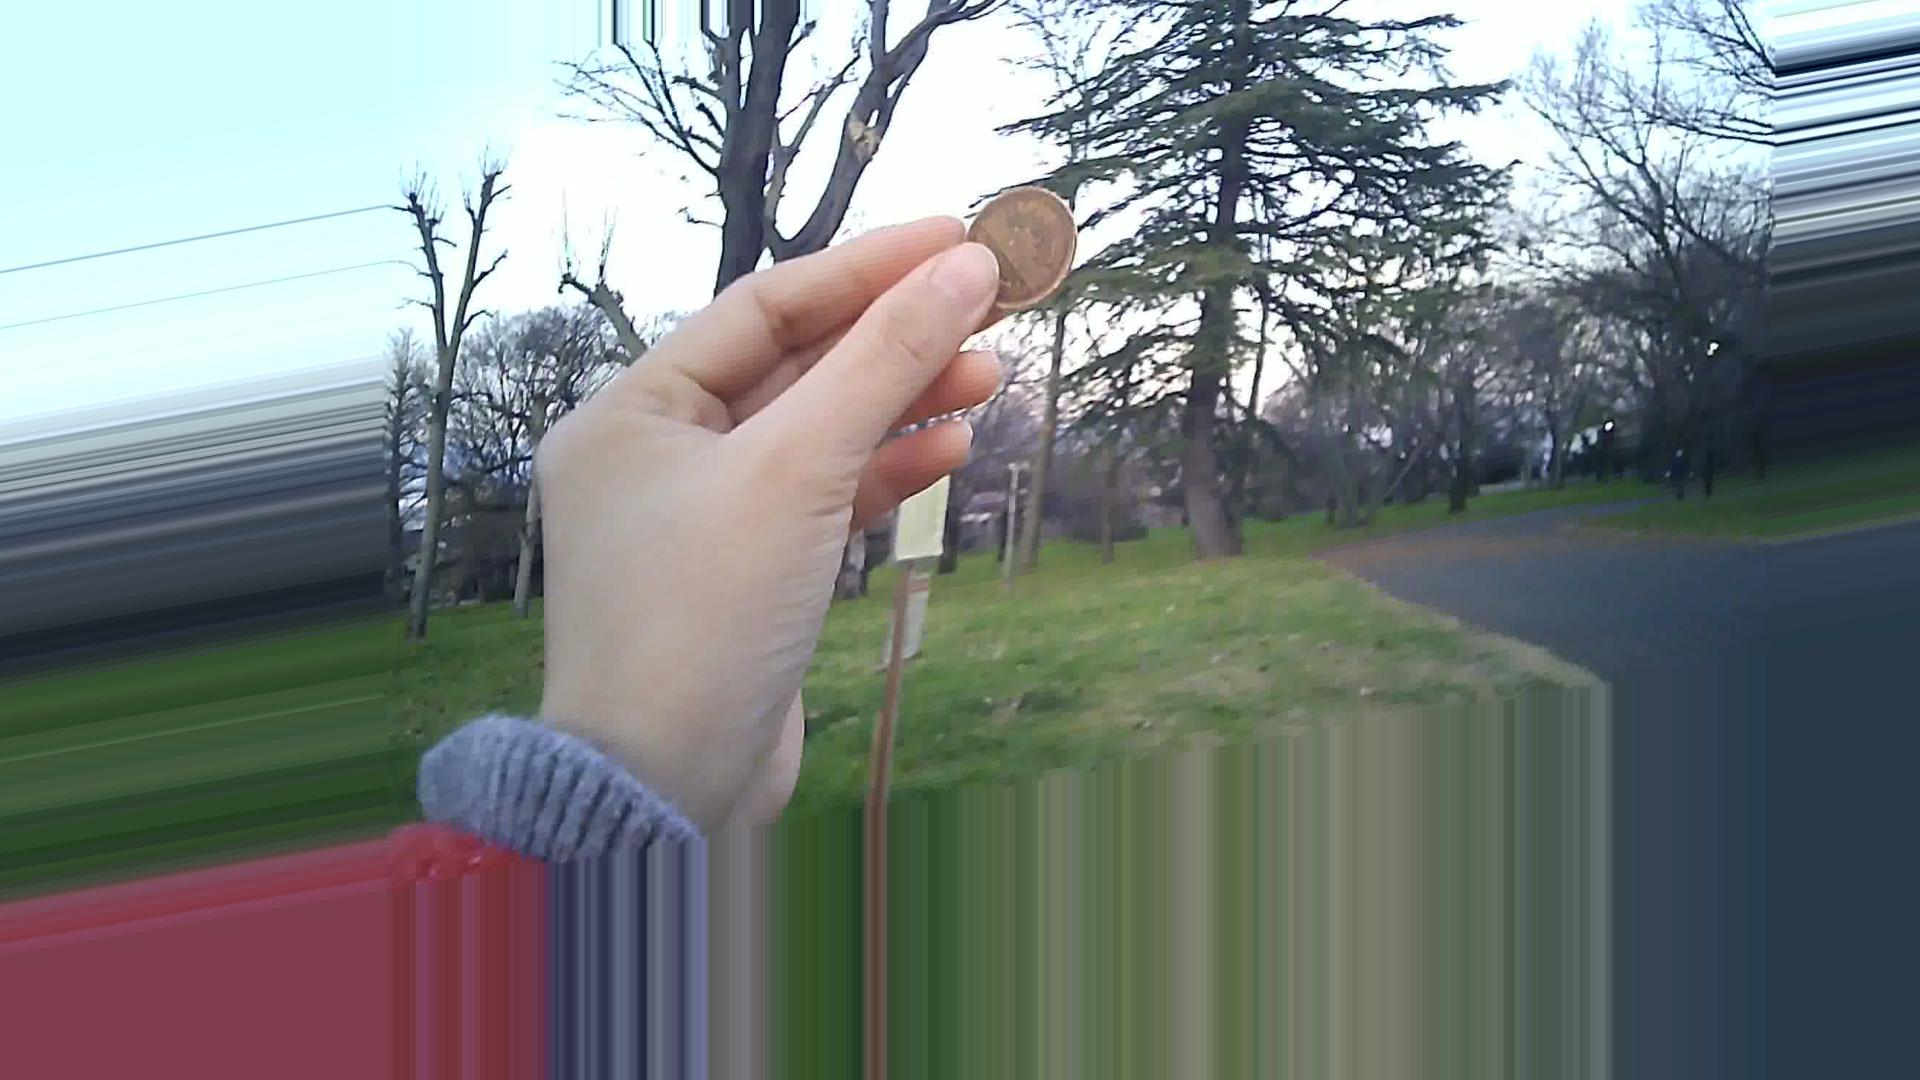10 Yen: (955, 165, 1084, 302)
